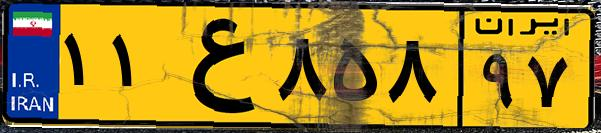1: (57, 26, 110, 100), (110, 28, 158, 98)
5: (330, 28, 385, 110)
7: (525, 38, 570, 115)
8: (270, 28, 330, 110), (385, 28, 445, 110)
9: (475, 38, 525, 113)
ع: (158, 12, 270, 120)
